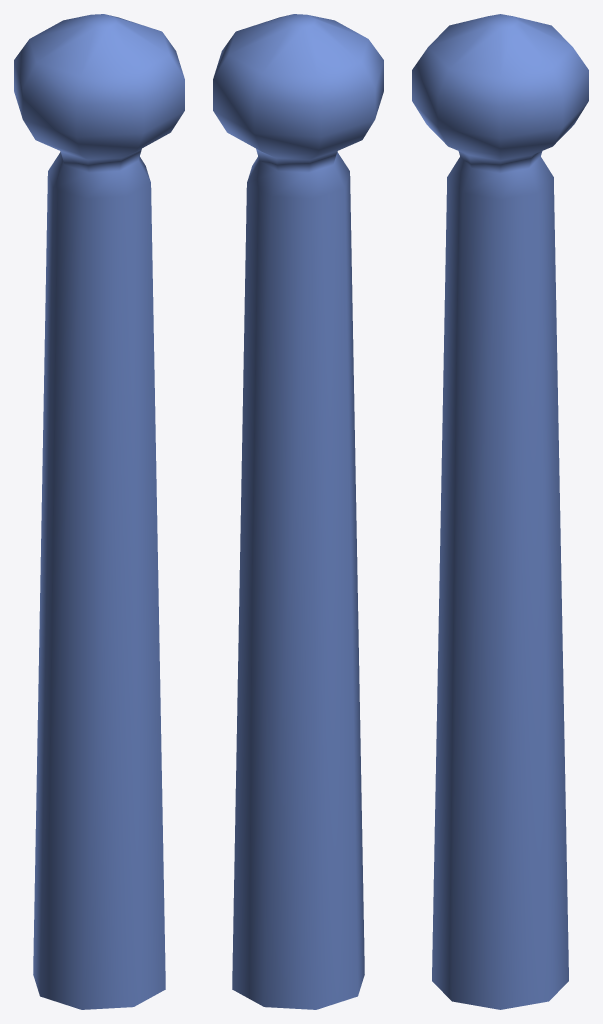
Rendered from SM_MagazineFencePole.fbx.
3 views of the same model, side by side, from view 1: azimuth 30°, elevation 25°; view 2: azimuth 150°, elevation 25°; view 3: azimuth 270°, elevation 25° (orthographic).
Visible parts, largest first — view 1: SM_MagazineFencePole; view 2: SM_MagazineFencePole; view 3: SM_MagazineFencePole.
Boxes of the visible parts, box(x1,y1,x2,y2) form: SM_MagazineFencePole: box(14, 14, 184, 1009); SM_MagazineFencePole: box(213, 14, 383, 1009); SM_MagazineFencePole: box(412, 14, 588, 1009).
Size of the model in its own units: 36.51 by 219 by 36.51.
